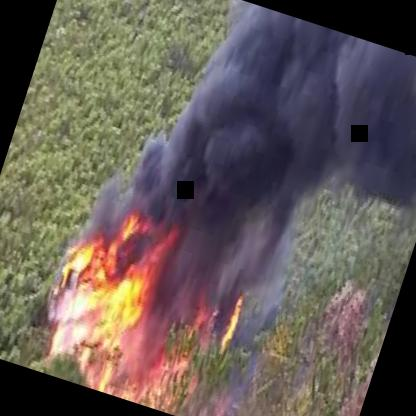fire: (25, 122, 228, 398)
